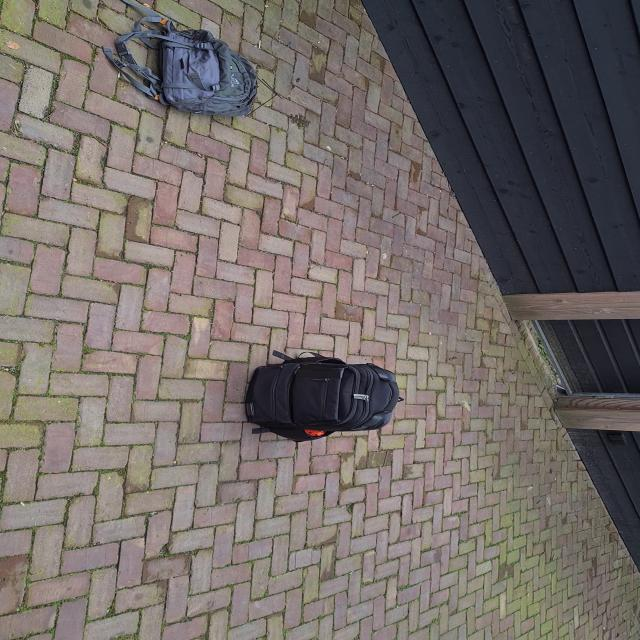backpack: (102, 18, 266, 119), (237, 348, 409, 442)
